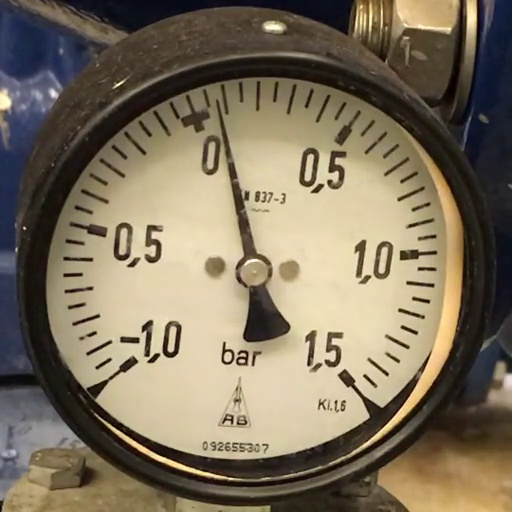base: (236, 254, 272, 288)
circle_plate: (46, 78, 464, 460)
maximum: (338, 368, 356, 388)
minimum: (119, 355, 138, 373)
number: (120, 320, 182, 364), (298, 147, 347, 194), (114, 222, 164, 268), (354, 240, 394, 284), (304, 330, 344, 372), (201, 134, 221, 176)
tip: (214, 98, 220, 104)
